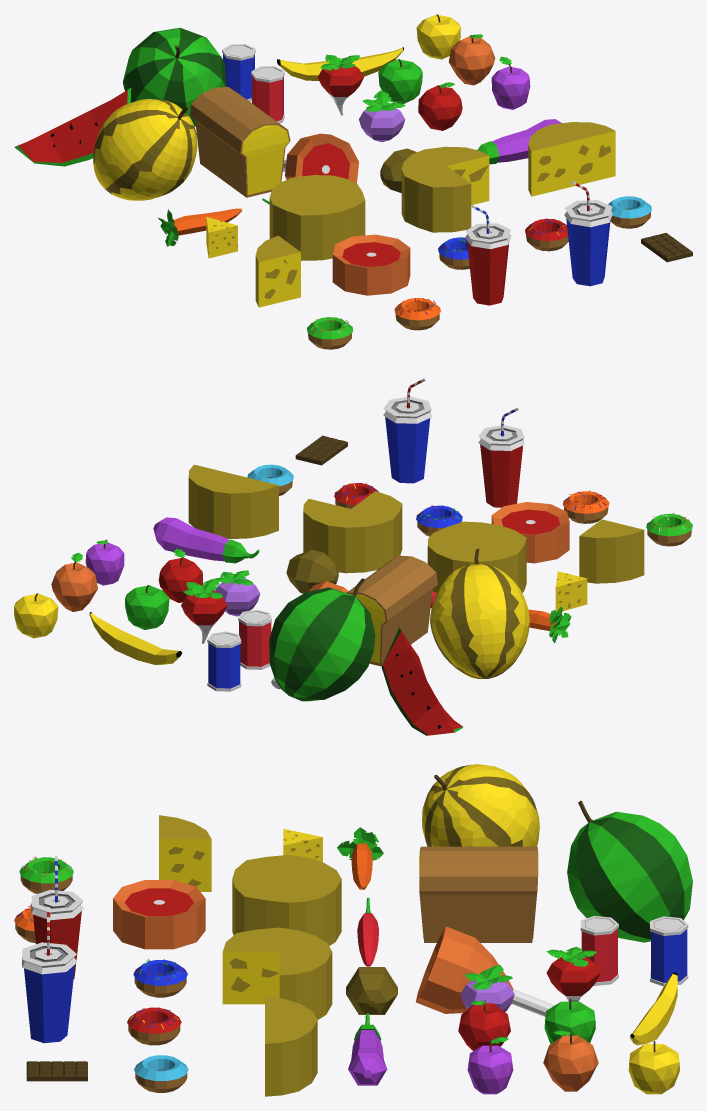
File: low poly food pack.fbx
The picture shows the model from 3 angles, top to bottom: view 1: azimuth 30°, elevation 25°; view 2: azimuth 150°, elevation 25°; view 3: azimuth 270°, elevation 25°; orthographic projection. The views are drawn at different scales.
Parts seen in each view (by area): view 1: Сфера.001, Куб.001, Куб.004, Куб.003, Икосфера.004, Куб.005, Цилиндр.007, Куб, Цилиндр.013, Цилиндр.015, Куб.006, Цилиндр.017 (+20 smaller); view 2: Икосфера.004, Сфера.001, Куб.004, Куб.005, Куб.001, Куб.003, Куб, Куб.006, Цилиндр.013, Цилиндр.007, Цилиндр.015, Цилиндр.006 (+18 smaller); view 3: Икосфера.004, Куб.001, Сфера.001, Куб.003, Куб.004, Цилиндр.007, Куб.005, Цилиндр.017, Цилиндр.013, Куб.006, Цилиндр.015, Окружность.001 (+23 smaller).
Boxes of the visible parts, <box> form: Сфера.001: <box>93,99,197,200</box>; Куб.001: <box>190,87,290,197</box>; Куб.004: <box>401,146,489,232</box>; Куб.003: <box>269,175,365,260</box>; Икосфера.004: <box>123,27,226,126</box>; Куб.005: <box>528,122,615,196</box>; Цилиндр.007: <box>332,234,410,295</box>; Куб: <box>14,88,131,166</box>; Цилиндр.013: <box>564,200,612,286</box>; Цилиндр.015: <box>465,223,511,305</box>; Куб.006: <box>255,235,300,307</box>; Цилиндр.017: <box>282,133,358,183</box>; Икосфера.004: <box>269,578,375,701</box>; Сфера.001: <box>430,548,529,678</box>; Куб.004: <box>303,491,402,573</box>; Куб.005: <box>188,464,278,538</box>; Куб.001: <box>347,555,437,666</box>; Куб.003: <box>427,521,526,592</box>; Куб: <box>381,627,462,735</box>; Куб.006: <box>579,519,644,583</box>; Цилиндр.013: <box>383,396,431,483</box>; Цилиндр.007: <box>491,502,569,563</box>; Цилиндр.015: <box>478,425,524,507</box>; Цилиндр.006: <box>153,517,259,563</box>; Икосфера.004: <box>567,800,692,942</box>; Куб.001: <box>419,846,538,942</box>; Сфера.001: <box>422,764,539,846</box>; Куб.003: <box>232,855,341,945</box>; Куб.004: <box>222,927,332,1019</box>; Цилиндр.007: <box>113,880,205,949</box>; Куб.005: <box>265,996,317,1096</box>; Цилиндр.017: <box>416,926,554,1016</box>; Цилиндр.013: <box>22,942,77,1043</box>; Куб.006: <box>159,815,211,891</box>; Цилиндр.015: <box>31,889,83,978</box>; Окружность.001: <box>650,916,688,986</box>.
Bounding box in the file's own units: 2288 × 701 × 2619.
